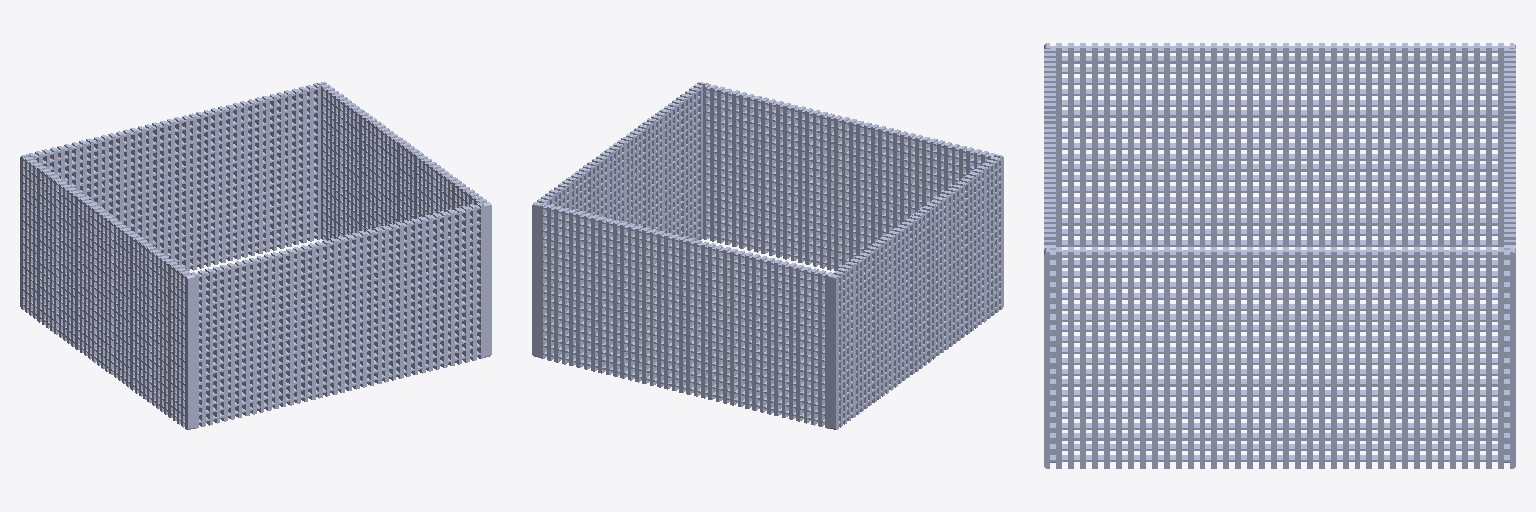
robot.urdf — full_cage:
<robot
  name="full_cage">
 
<!--
<link name="world"/>

-->

  <link
    name="cage">
    <inertial>
      <origin
        xyz="0.67 -0.56 1"
        rpy="0 0 0" />

      <mass
        value="238.982831853073" />

      <inertia
        ixx="170.12"
        ixy="0"
        ixz="0"
        iyy="312.22"
        iyz="0"
        izz="181.92" />
    </inertial>

    <visual>
      <origin
        xyz="0 0 0"
        rpy="0 0 0" />
      <geometry>
        <mesh
          filename="package://full_cage/meshes/cage.STL" />
      </geometry>
      <material
        name="">
        <color
          rgba="0.792156862745098 0.819607843137255 0.933333333333333 1" />
      </material>
    </visual>
    <collision>
      <origin
        xyz="0 0 0"
        rpy="0 0 0" />
      <geometry>
        <mesh
          filename="package://full_cage/meshes/cage.STL" />
      </geometry>
    </collision>
  </link>

<!--
 <gazebo reference="cage">
    <mu1>0</mu1>
    <mu2>0</mu2>
    <fdir1 value = "1 0 0"/>
 <dynamics damping="1" />
    <material>Gazebo/Yellow</material>
    <turnGravityOff>false</turnGravityOff>
  </gazebo>

-->

<!--
  <joint name="world_to_cage" type="fixed">
    <parent link="world"/>
    <child link="cage"/>
    <origin rpy="0 0 0" xyz="0 0 0"/>
  </joint>

-->

</robot>

--- What the picture shows (computed from the rendered views, not written in the file) ---
Views: 3 orthographic renders of the robot side by side, from view 1: azimuth 30°, elevation 25°; view 2: azimuth 150°, elevation 25°; view 3: azimuth 270°, elevation 25°.
Robot: full_cage — 1 links, 0 joints (none); root link cage; default pose: every joint at zero.
Visible links, largest first — view 1: cage; view 2: cage; view 3: cage.
Link boxes in pixels (x1=…): cage: x1=20, y1=82, x2=491, y2=429; cage: x1=532, y1=82, x2=1003, y2=429; cage: x1=1044, y1=43, x2=1515, y2=468.
Size in the robot's own frame: 2.08 by 1.98 by 1 metres.
Meshes: 1 distinct files referenced, 1 mesh visuals loaded (1 binary STL).